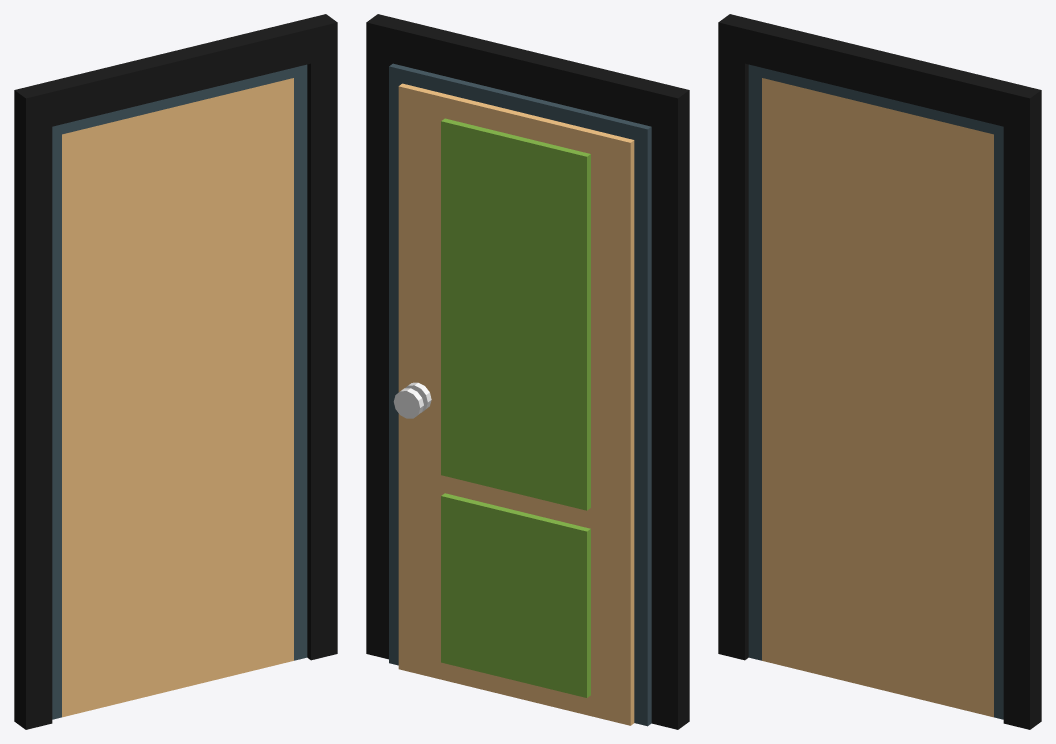
File: Door.fbx
3 renders of one model, left to right at view 1: azimuth 30°, elevation 25°; view 2: azimuth 150°, elevation 25°; view 3: azimuth 330°, elevation 25°, orthographic.
Parts seen in each view (by area): view 1: group_2071676715, group_1215139596; view 2: group_2071676715, group_1215139596; view 3: group_2071676715, group_1215139596.
Part boxes in pixels (x1,y1,x2,y2): group_2071676715: [62, 78, 293, 717]; group_1215139596: [14, 14, 337, 729]; group_2071676715: [393, 83, 634, 725]; group_1215139596: [366, 14, 689, 729]; group_2071676715: [762, 78, 993, 717]; group_1215139596: [718, 14, 1041, 729].
Bounding box in the file's own units: 47 × 91 × 8.
